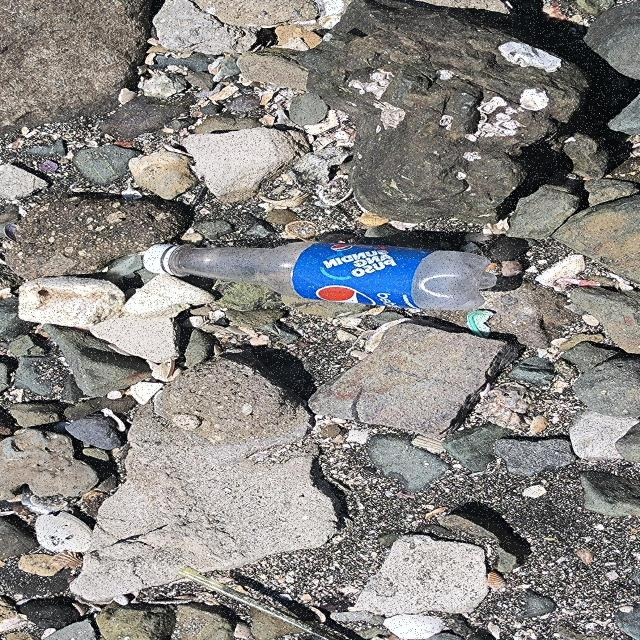plastic_waste: (144, 242, 499, 312), (179, 568, 342, 640)
